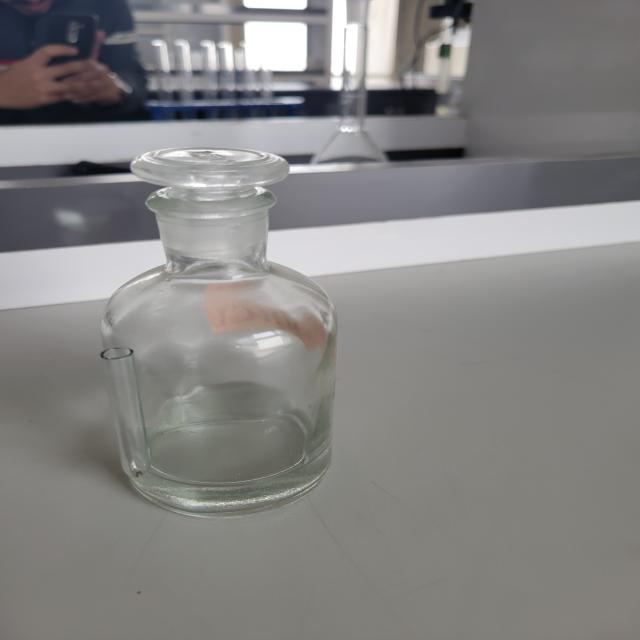Reagent_Bottle: (47, 116, 412, 546)
